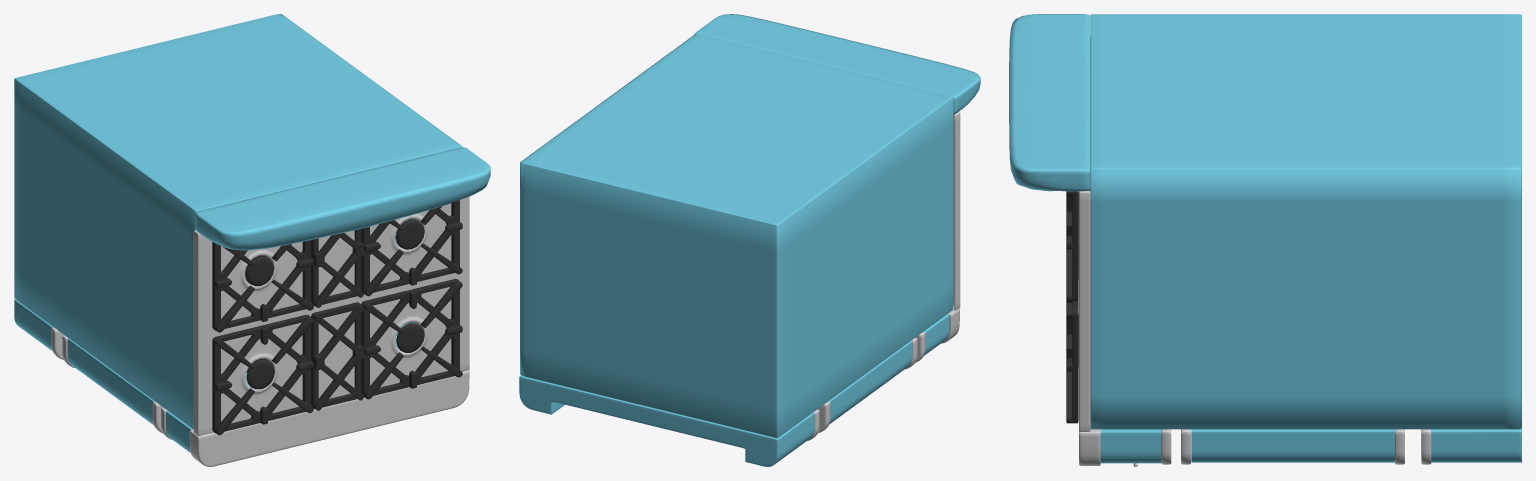
The model's file is stove.obj.
3 renders of one model, left to right at view 1: azimuth 30°, elevation 25°; view 2: azimuth 150°, elevation 25°; view 3: azimuth 270°, elevation 25°, orthographic. The views are drawn at different scales.
Visible parts, largest first — view 1: Stove; view 2: Stove; view 3: Stove.
Part boxes in pixels (x1=…): Stove: x1=14, y1=14, x2=490, y2=466; Stove: x1=519, y1=14, x2=980, y2=466; Stove: x1=1009, y1=14, x2=1521, y2=465.
Bounding box in the file's own units: 77.36 × 72.95 × 107.
Materials: 2 (1 with a texture image).
